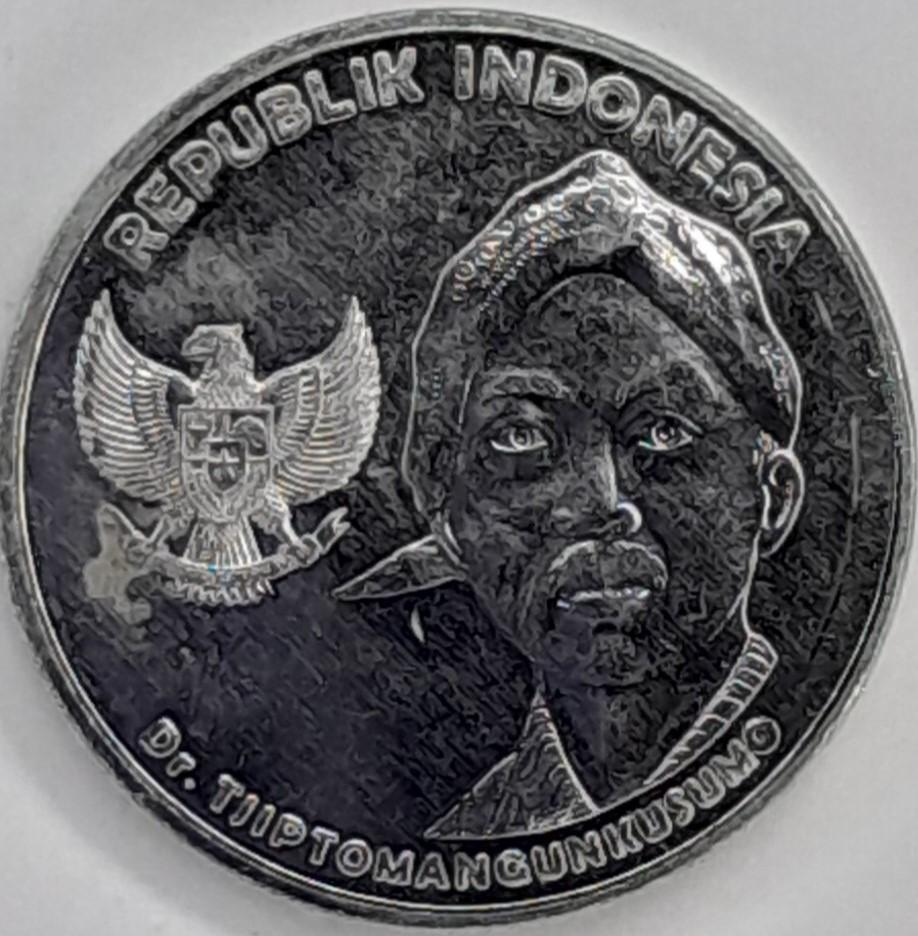coin_200_e2016: (0, 16, 918, 936)
